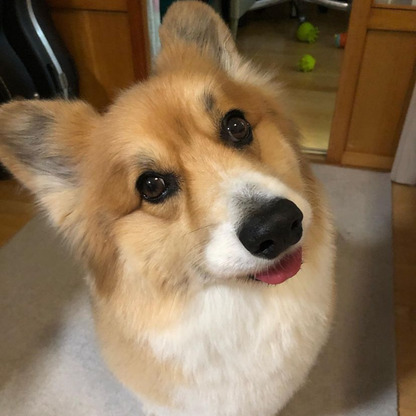Corgi: (15, 31, 354, 379)
